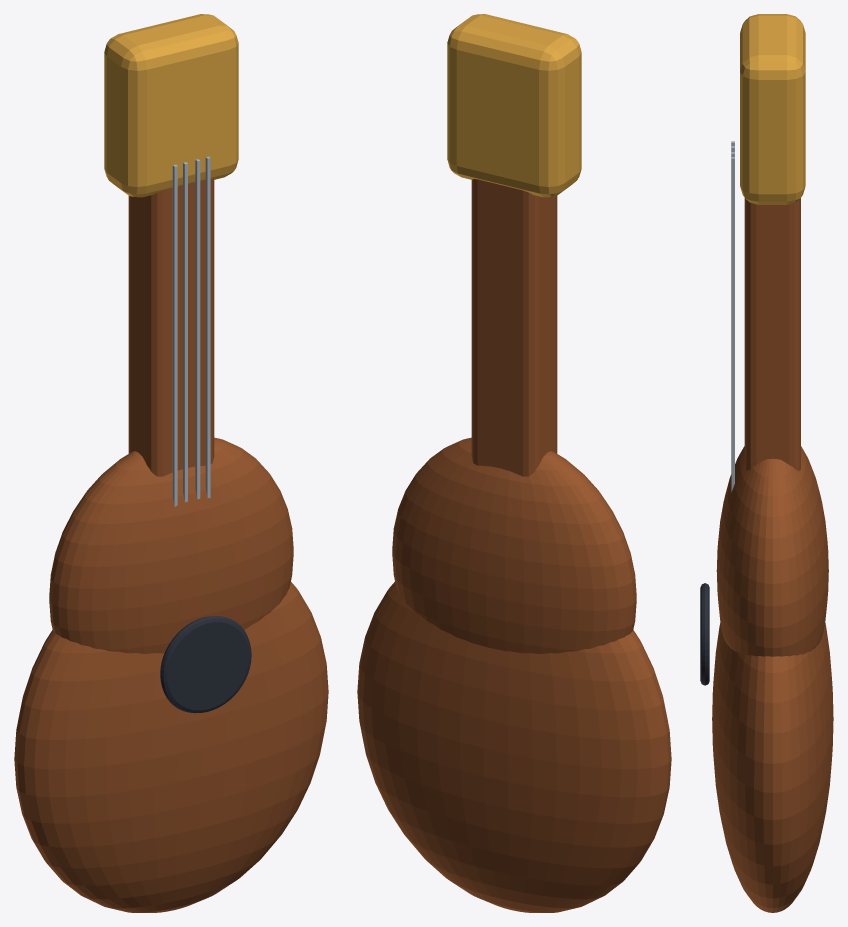
The model's file is guitare-miniature-signee.glb.
The picture shows the model from 3 angles, left to right: view 1: azimuth 30°, elevation 25°; view 2: azimuth 150°, elevation 25°; view 3: azimuth 270°, elevation 25°; orthographic projection.
Parts seen in each view (by area): view 1: Caisse basse, Caisse haute, Tete, Manche, Rosace, Corde, Corde.003, Corde.002, Corde.001; view 2: Caisse basse, Caisse haute, Manche, Tete; view 3: Caisse basse, Caisse haute, Manche, Tete, Corde.003, Rosace.
Boxes of the visible parts, x1,y1,x2,y2 form: Caisse basse: (14,582,328,912); Caisse haute: (49,437,293,653); Tete: (104,14,238,197); Manche: (128,179,214,476); Rosace: (160,616,251,713); Corde: (172,164,177,506); Corde.003: (205,156,210,498); Corde.002: (195,159,200,499); Corde.001: (183,162,187,502); Caisse basse: (357,582,671,912); Caisse haute: (392,437,636,653); Manche: (471,179,557,476); Tete: (447,14,581,197); Caisse basse: (712,622,833,912); Caisse haute: (716,446,828,656); Manche: (744,198,800,470); Tete: (740,14,805,204); Corde.003: (731,157,734,492); Rosace: (700,583,709,685).
Size of the model in its own units: 1.5 by 4.08 by 0.57.
